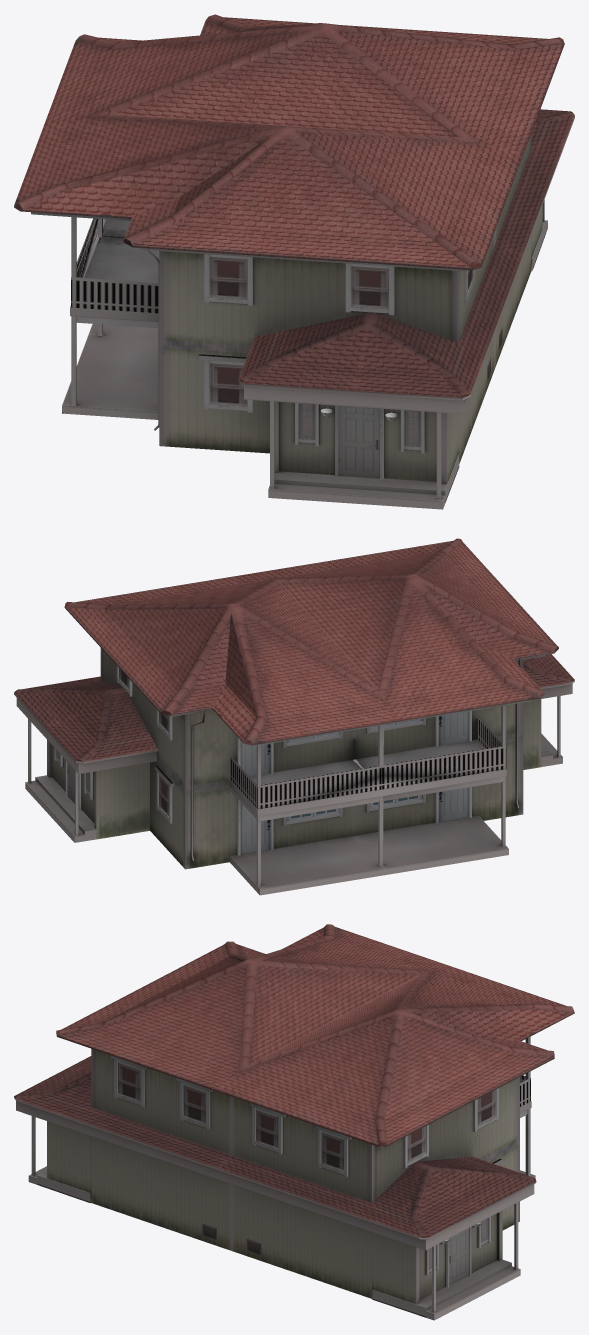
3 views of the same model, one above another, from view 1: azimuth 30°, elevation 25°; view 2: azimuth 150°, elevation 25°; view 3: azimuth 270°, elevation 25° (orthographic). The views are drawn at different scales.
Parts seen in each view (by area): view 1: City_building_055; view 2: City_building_055; view 3: City_building_055.
Boxes of the visible parts, left/top/right/bottom form: City_building_055: left=14, top=14, right=574, bottom=509; City_building_055: left=14, top=538, right=574, bottom=895; City_building_055: left=14, top=924, right=574, bottom=1320.
Bounding box in the file's own units: 2745 × 2789 × 1188.
1 material, 1 textured.
